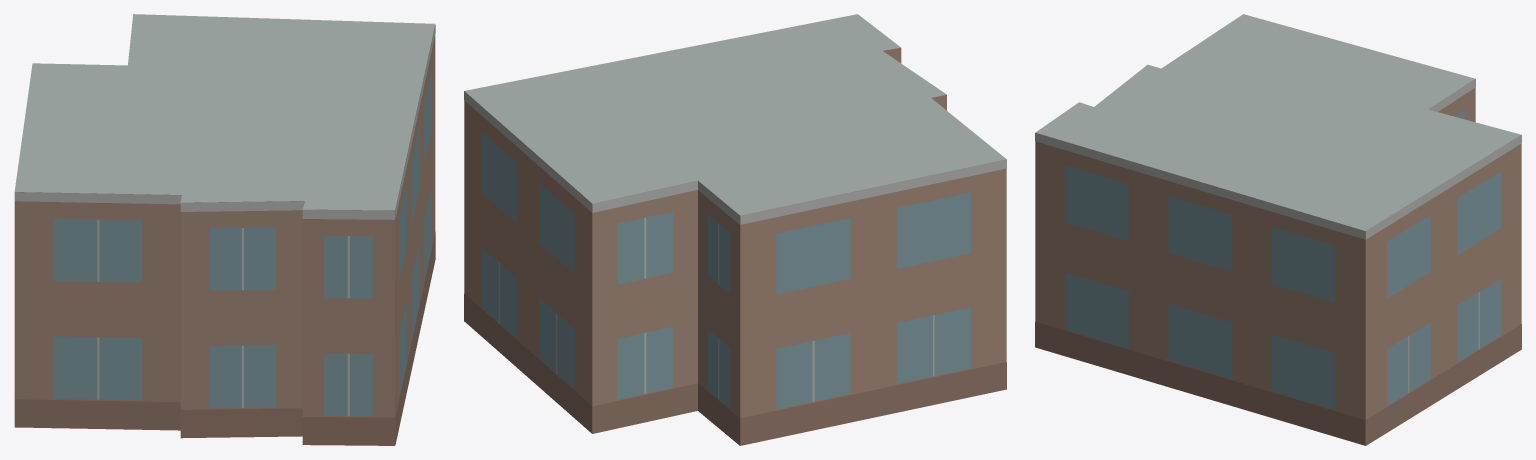
File: survey-upis-32655368.glb
The picture shows the model from 3 angles, left to right: view 1: azimuth 30°, elevation 25°; view 2: azimuth 150°, elevation 25°; view 3: azimuth 270°, elevation 25°; orthographic projection. The views are drawn at different scales.
Visible parts, largest first — view 1: survey-upis-32655368.tmp; view 2: survey-upis-32655368.tmp; view 3: survey-upis-32655368.tmp.
Part boxes in pixels (x1,y1,x2,y2): survey-upis-32655368.tmp: [14, 14, 435, 445]; survey-upis-32655368.tmp: [464, 14, 1006, 445]; survey-upis-32655368.tmp: [1035, 14, 1521, 445].
Size of the model in its own units: 13.24 by 6.1 by 12.54.
